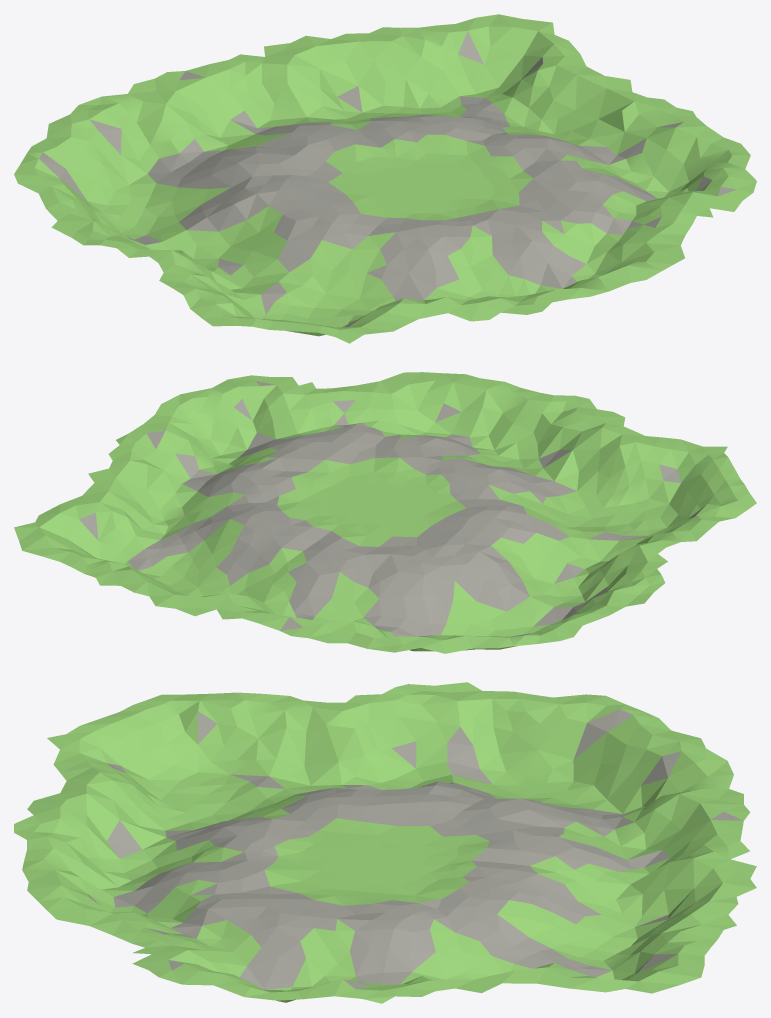
File: hubenviro.glb
3 renders of one model, top to bottom at view 1: azimuth 30°, elevation 25°; view 2: azimuth 150°, elevation 25°; view 3: azimuth 270°, elevation 25°, orthographic. The views are drawn at different scales.
Visible parts, largest first — view 1: CPT_Mountain_L_b_20; view 2: CPT_Mountain_L_b_20; view 3: CPT_Mountain_L_b_20.
Boxes of the visible parts, box(x1,y1,x2,y2) form: CPT_Mountain_L_b_20: box(14, 14, 756, 343); CPT_Mountain_L_b_20: box(14, 372, 756, 653); CPT_Mountain_L_b_20: box(14, 682, 756, 1003).
Size of the model in its own units: 6.48 by 0.4995 by 6.37.
Materials: 1 (1 with a texture image).
